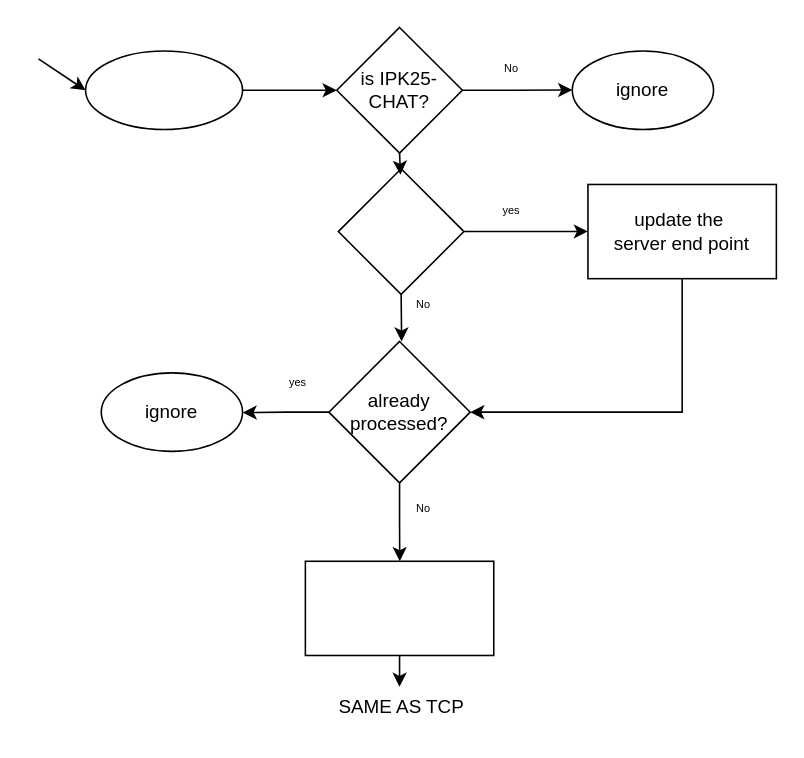
The diagram is 804 pixels wide and 758 high, and some of its shapes have lost their labels. The centre of each missing label's shape, as x and y in pixels:
incoming message: point (163, 89)
message handler: point (399, 607)
REPLY?: point (400, 230)
